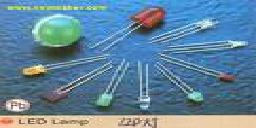LED: (165, 55, 242, 81), (167, 35, 249, 52), (110, 7, 167, 31), (133, 56, 157, 113), (182, 15, 230, 34), (15, 61, 52, 80)
